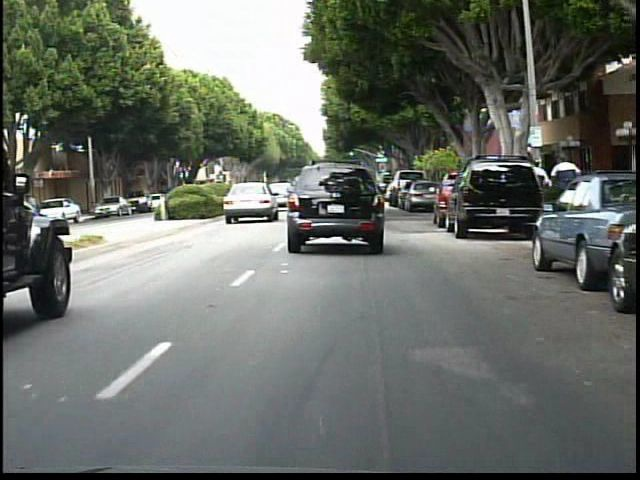person: (549, 148, 584, 221), (523, 157, 550, 220), (24, 192, 45, 229)
